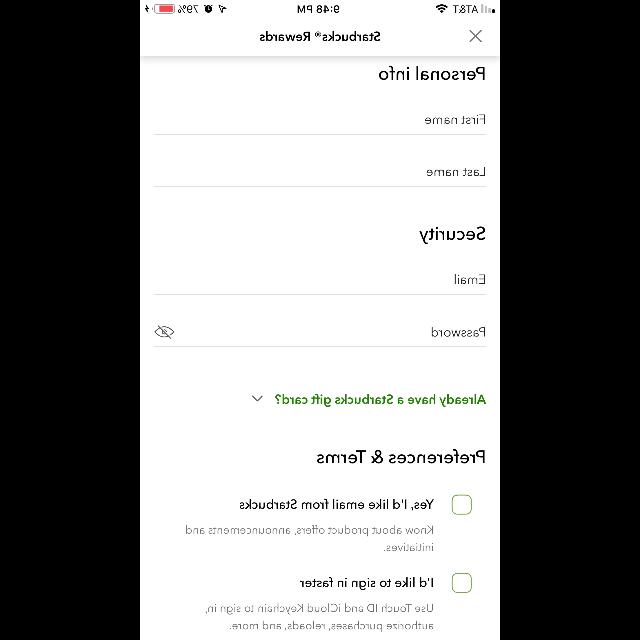checkbox: (452, 495, 472, 515), (452, 573, 472, 593)
icon: (154, 326, 174, 338), (470, 31, 482, 43), (252, 395, 262, 401)
input: (154, 114, 486, 136), (154, 166, 486, 188), (154, 274, 486, 296), (154, 325, 486, 347)
text: (185, 525, 432, 551), (205, 604, 433, 632), (276, 394, 487, 406), (240, 498, 434, 510), (318, 449, 484, 463), (300, 576, 432, 590), (379, 66, 485, 80), (260, 31, 380, 41), (419, 227, 485, 245), (425, 115, 485, 125), (427, 166, 485, 176), (432, 327, 484, 337), (454, 274, 484, 284)
uppertaskbar: (140, 0, 500, 14)
